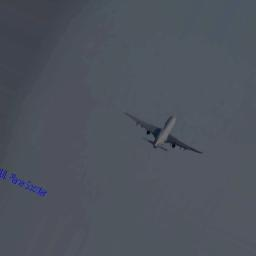Airplane: (123, 109, 204, 159)
